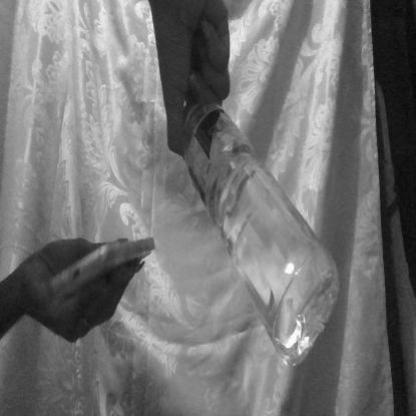Plastic Bottle: (160, 49, 357, 403)
